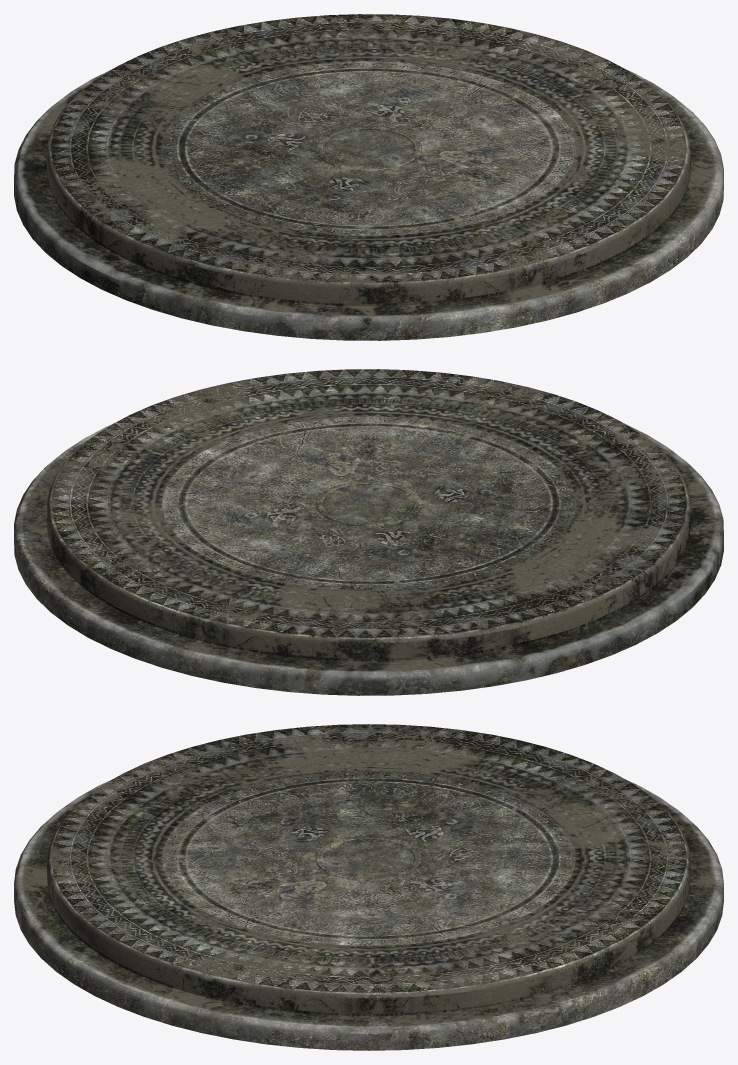
Rendered from sf-stage-57b58a.glb.
3 views of the same model, one above another, from view 1: azimuth 30°, elevation 25°; view 2: azimuth 150°, elevation 25°; view 3: azimuth 270°, elevation 25° (orthographic).
Parts seen in each view (by area): view 1: Stage Base.Shape_StageBasa_trim_0, Stage Base.Shape_StageBase_0; view 2: Stage Base.Shape_StageBasa_trim_0, Stage Base.Shape_StageBase_0; view 3: Stage Base.Shape_StageBasa_trim_0, Stage Base.Shape_StageBase_0.
Boxes of the visible parts, <box> form: Stage Base.Shape_StageBasa_trim_0: <box>14,14,723,340</box>; Stage Base.Shape_StageBase_0: <box>162,61,575,235</box>; Stage Base.Shape_StageBasa_trim_0: <box>14,369,723,695</box>; Stage Base.Shape_StageBase_0: <box>162,416,575,590</box>; Stage Base.Shape_StageBasa_trim_0: <box>14,724,723,1050</box>; Stage Base.Shape_StageBase_0: <box>162,771,575,945</box>.
Size of the model in its own units: 6.98 by 0.4661 by 6.98.
Materials: 2 (2 with a texture image).
